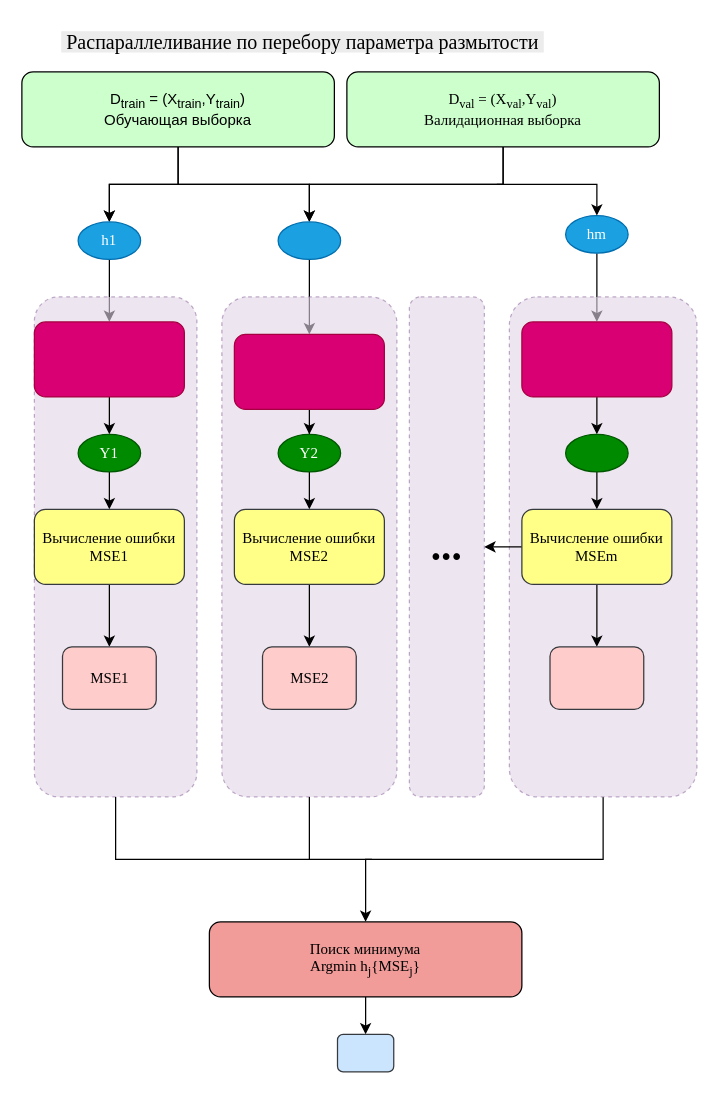
Some shapes in this 719 by 1094 pixel diagram are drawn without their labels. Here are the shapes that lost their labels. From the top down, the box of each, then its label:
(277, 221, 341, 259): h2
(33, 321, 184, 397): Вычисление регрессии Надарая-Ватсона (h1)
(233, 333, 384, 409): Вычисление регрессии Надарая-Ватсона (h2)
(521, 321, 672, 397): Вычисление регрессии Надарая-Ватсона (hm)
(564, 433, 628, 472): Ym
(508, 296, 697, 797): Потоки/Ядра m
(549, 646, 644, 709): MSEm
(336, 1033, 394, 1072): h opt
